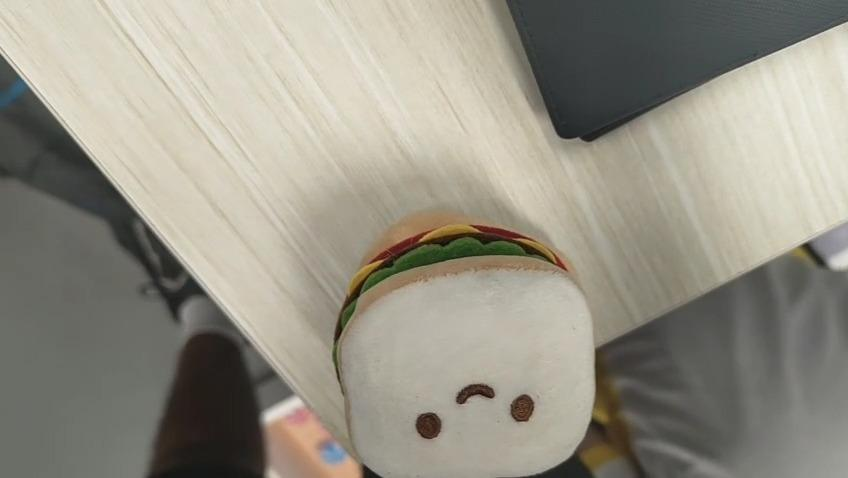objects: (333, 213, 599, 478)
